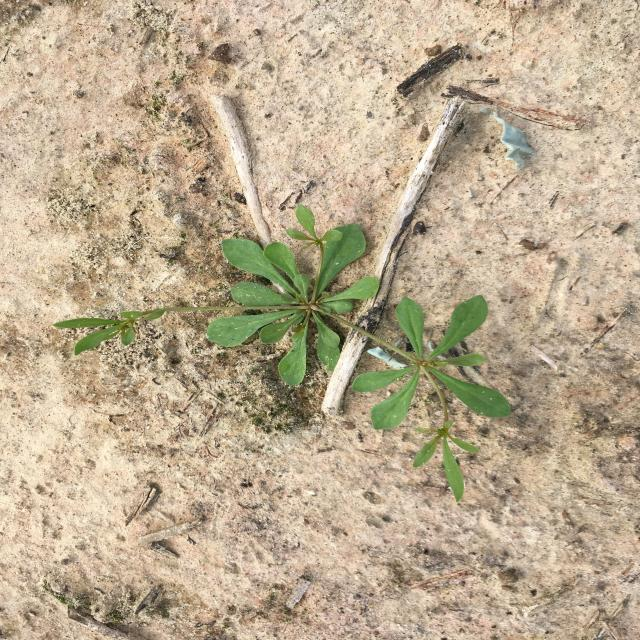Carpetweed: (52, 205, 510, 502)
